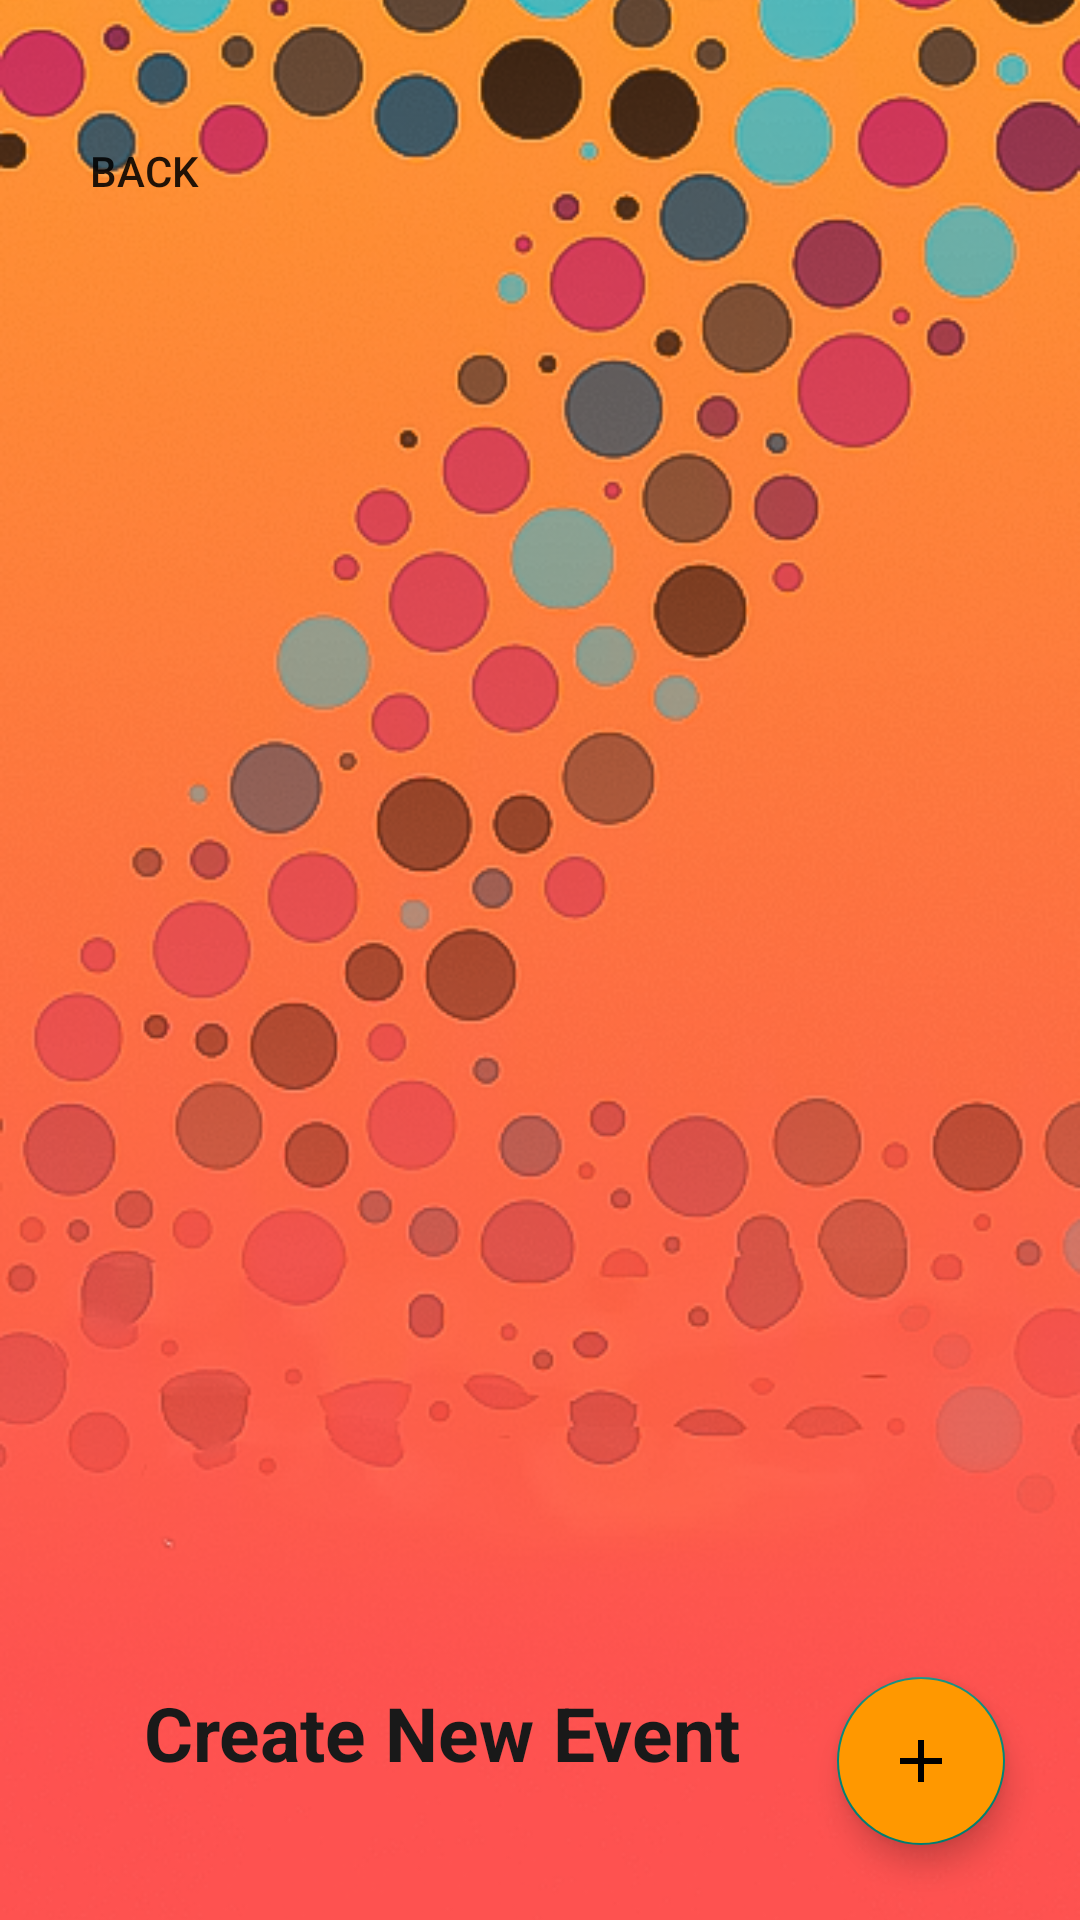

Named icons in this screenshot (1080*1920) and their bounding boxes, (left=x1, top=y1, right=x2, bottom=y2):
add: (left=837, top=1677, right=1005, bottom=1845)
